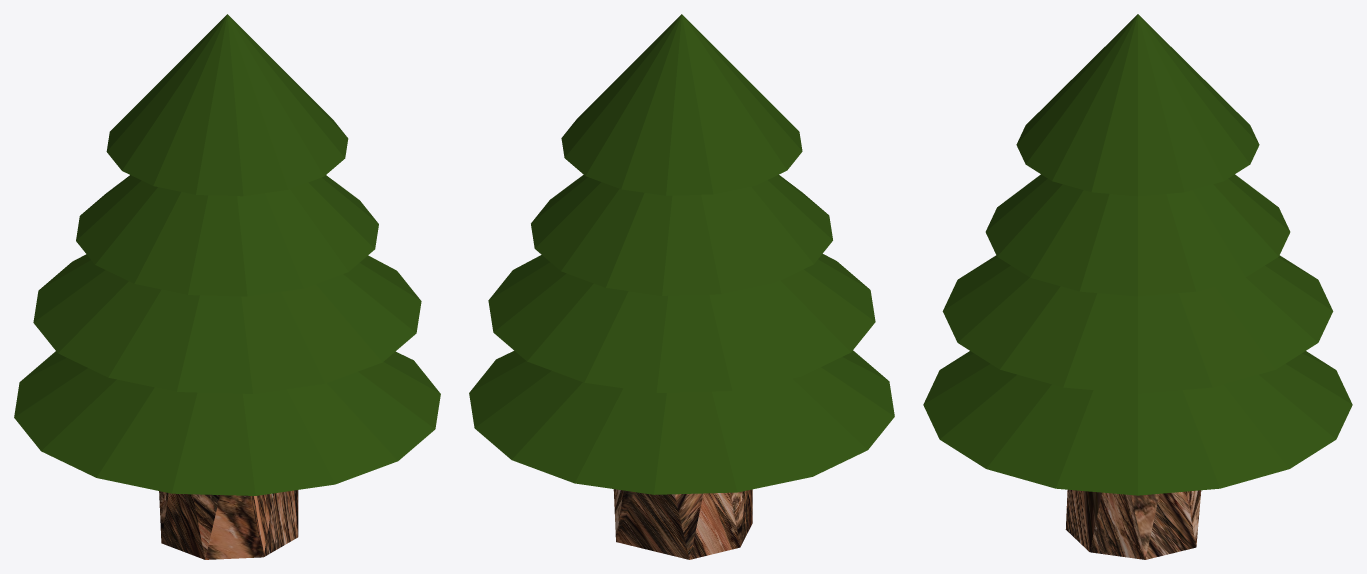
The model's file is Pino.obj.
The picture shows the model from 3 angles, left to right: view 1: azimuth 30°, elevation 25°; view 2: azimuth 150°, elevation 25°; view 3: azimuth 270°, elevation 25°; orthographic projection.
Parts seen in each view (by area): view 1: Cylinder_Material.006, Cylinder_Material.003; view 2: Cylinder_Material.006, Cylinder_Material.003; view 3: Cylinder_Material.006, Cylinder_Material.003.
Part boxes in pixels (x1,y1,x2,y2): Cylinder_Material.006: [14, 14, 440, 495]; Cylinder_Material.003: [159, 490, 298, 559]; Cylinder_Material.006: [469, 14, 894, 494]; Cylinder_Material.003: [613, 489, 752, 559]; Cylinder_Material.006: [923, 14, 1352, 495]; Cylinder_Material.003: [1065, 489, 1201, 559].
Bounding box in the file's own units: 12.18 × 16.14 × 12.18.
